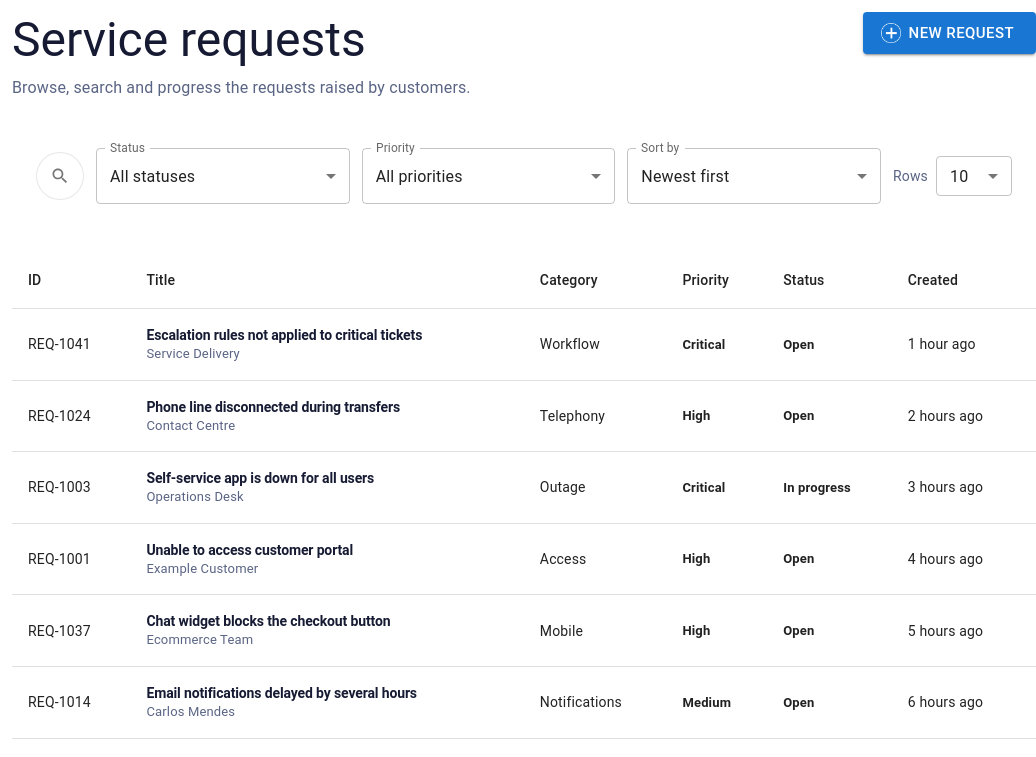
Test case: RequestListPage › searches by title once the input settles
Expected: the text "REQ-1001" is shown, [12,523,130,595]
Click the button named "Search requests". click: [60, 176]
box: [36,152,84,200]
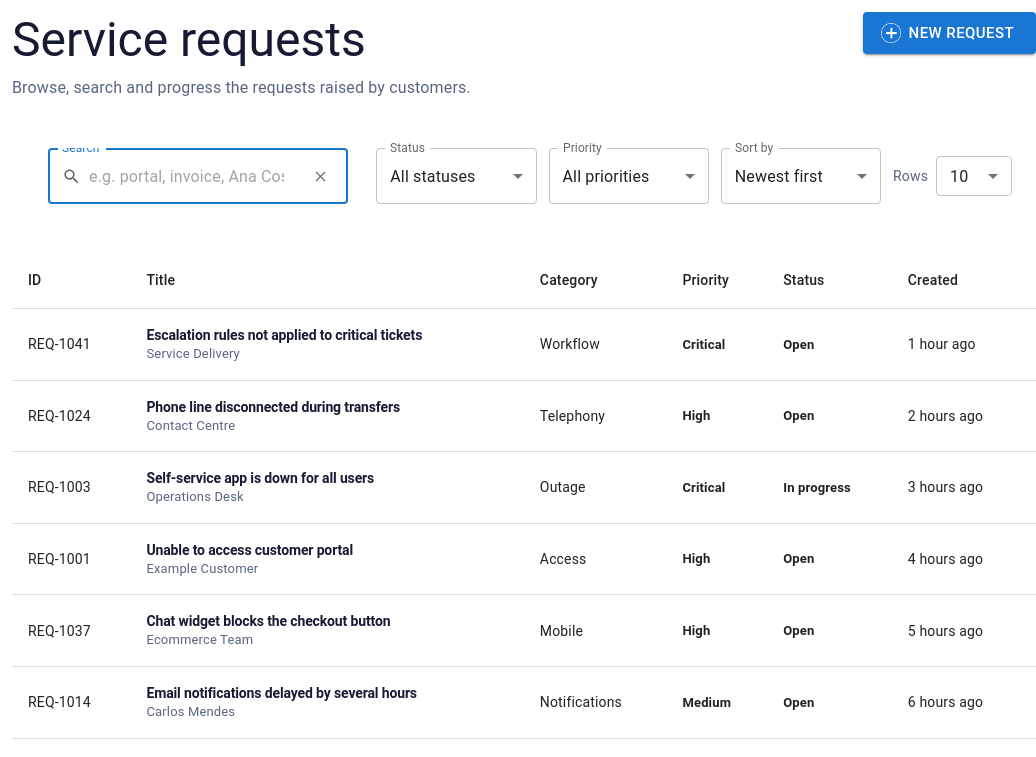
Type "invoice" into the search field labelled "Search". click: [194, 176]
box: [89,148,299,204]
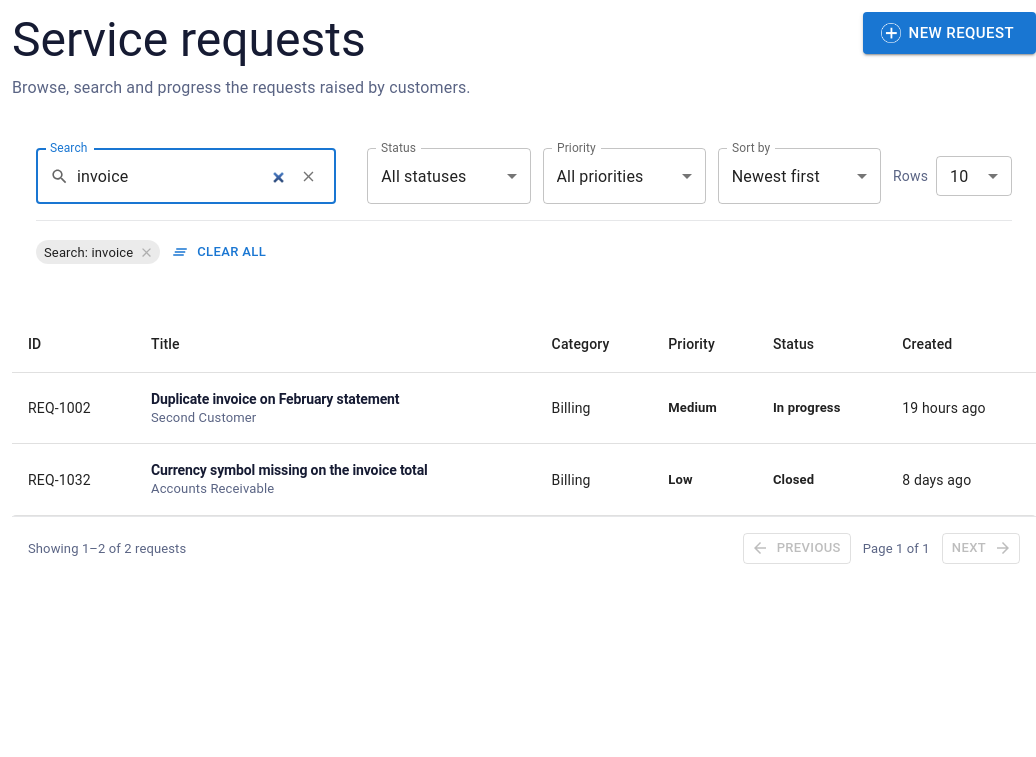
Result: the text "Showing 1–2 of 2 requests" is shown at [28,539,186,558]
Result: the link "Duplicate invoice on February statement" is shown at [151,391,399,407]
